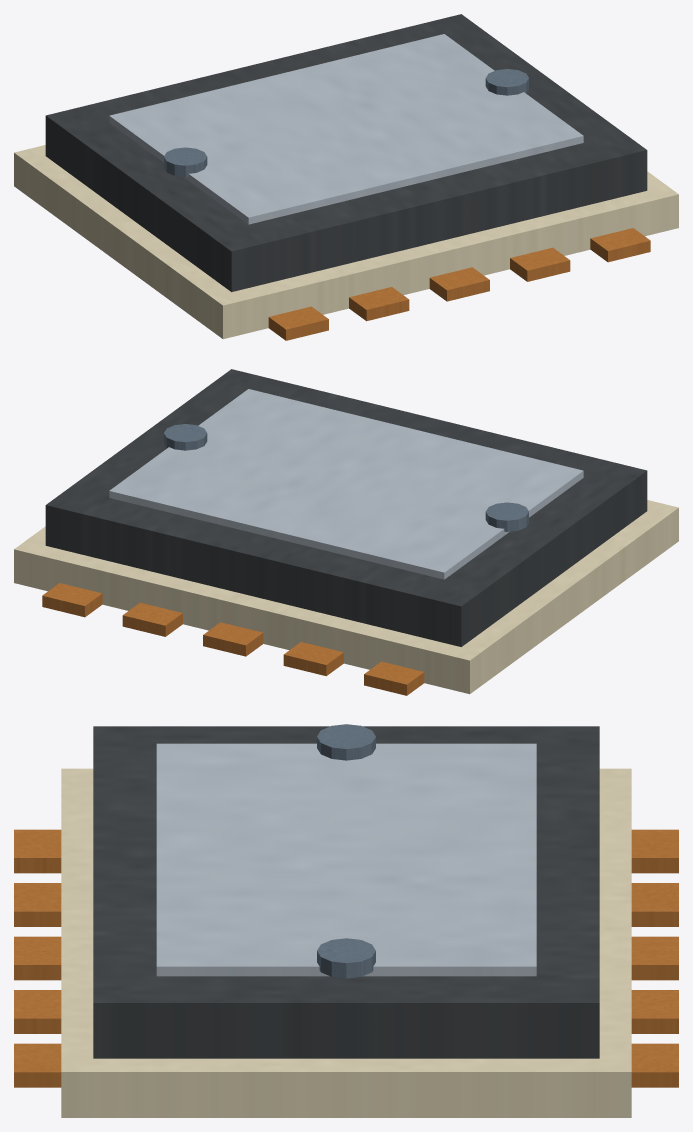
3 renders of one model, top to bottom at view 1: azimuth 30°, elevation 25°; view 2: azimuth 150°, elevation 25°; view 3: azimuth 270°, elevation 25°, orthographic. The views are drawn at different scales.
Visible parts, largest first — view 1: 013_L126_M5__PSMAT__graphite, 013_L126_M5__PSMAT__silver, 013_L126_M5__PSMAT__powerceramic, 013_L126_M5__PSMAT__busbar, 013_L126_M5__PSMAT__steel; view 2: 013_L126_M5__PSMAT__graphite, 013_L126_M5__PSMAT__silver, 013_L126_M5__PSMAT__powerceramic, 013_L126_M5__PSMAT__busbar, 013_L126_M5__PSMAT__steel; view 3: 013_L126_M5__PSMAT__silver, 013_L126_M5__PSMAT__graphite, 013_L126_M5__PSMAT__powerceramic, 013_L126_M5__PSMAT__busbar, 013_L126_M5__PSMAT__steel.
Boxes of the visible parts, bbox=[...] form: 013_L126_M5__PSMAT__graphite: bbox=[45, 14, 647, 291]; 013_L126_M5__PSMAT__silver: bbox=[109, 34, 583, 224]; 013_L126_M5__PSMAT__powerceramic: bbox=[14, 145, 678, 339]; 013_L126_M5__PSMAT__busbar: bbox=[268, 228, 650, 340]; 013_L126_M5__PSMAT__steel: bbox=[164, 69, 528, 176]; 013_L126_M5__PSMAT__graphite: bbox=[45, 369, 647, 646]; 013_L126_M5__PSMAT__silver: bbox=[109, 389, 583, 579]; 013_L126_M5__PSMAT__powerceramic: bbox=[14, 500, 678, 694]; 013_L126_M5__PSMAT__busbar: bbox=[42, 583, 424, 695]; 013_L126_M5__PSMAT__steel: bbox=[164, 424, 528, 531]; 013_L126_M5__PSMAT__silver: bbox=[156, 743, 536, 976]; 013_L126_M5__PSMAT__graphite: bbox=[93, 726, 599, 1058]; 013_L126_M5__PSMAT__powerceramic: bbox=[61, 768, 631, 1117]; 013_L126_M5__PSMAT__busbar: bbox=[14, 829, 678, 1087]; 013_L126_M5__PSMAT__steel: bbox=[317, 724, 375, 978].
Size of the model in its own units: 0.034 by 0.0064 by 0.0315.
Materials: 5 (5 with a texture image).
